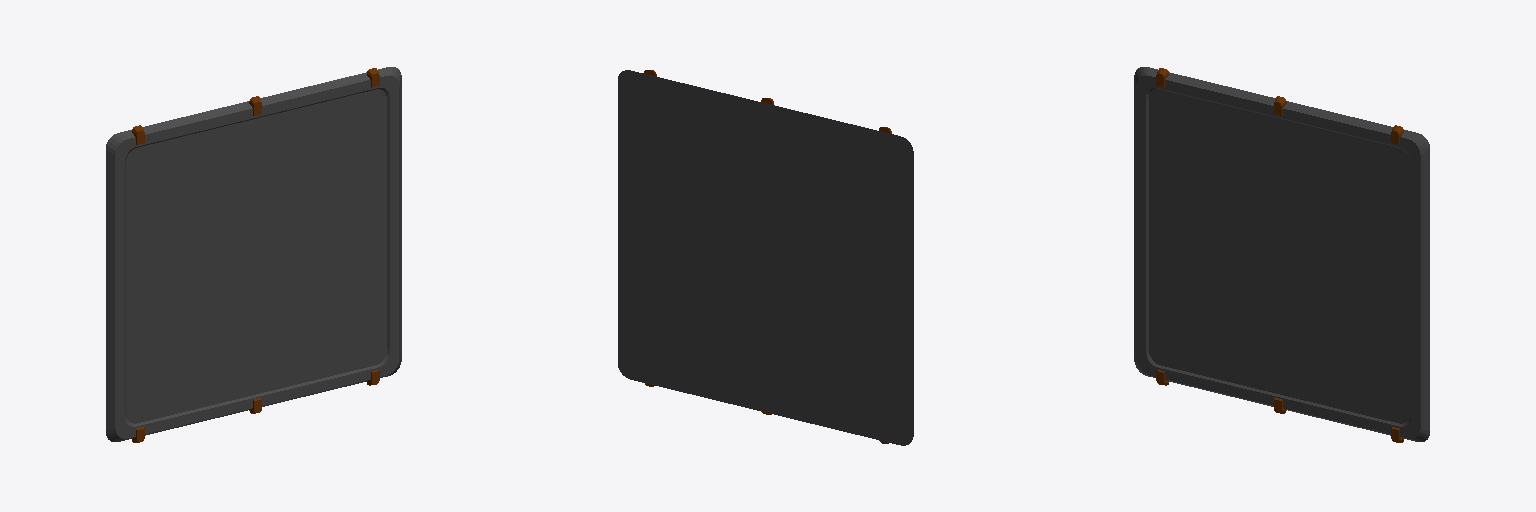
Rendered from Details_Plate_Large.obj.
3 renders of one model, left to right at view 1: azimuth 30°, elevation 25°; view 2: azimuth 150°, elevation 25°; view 3: azimuth 330°, elevation 25°, orthographic.
Visible parts, largest first — view 1: Details_Plate_Large_Cube.060; view 2: Details_Plate_Large_Cube.060; view 3: Details_Plate_Large_Cube.060.
Boxes of the visible parts, <box> form: Details_Plate_Large_Cube.060: <box>106,67,401,442</box>; Details_Plate_Large_Cube.060: <box>618,70,913,445</box>; Details_Plate_Large_Cube.060: <box>1134,67,1429,442</box>.
Size of the model in its own units: 1.05 by 1.08 by 0.0287.